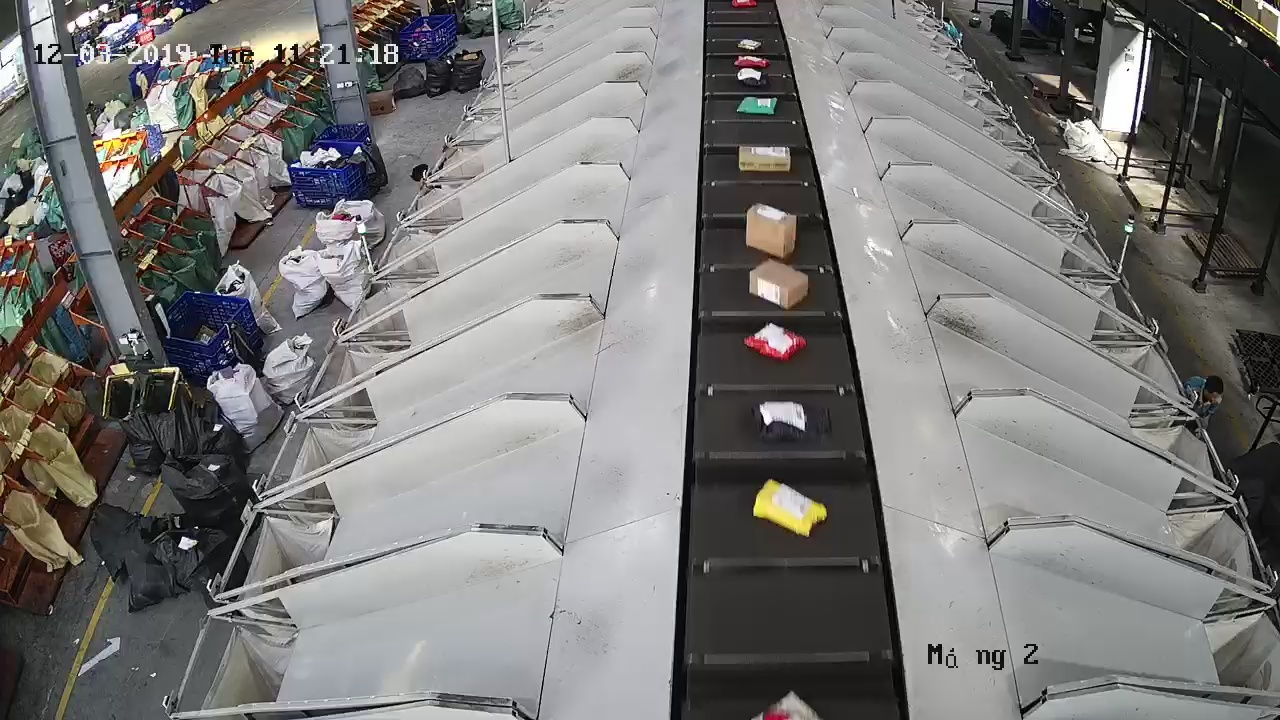parcel: (751, 477, 828, 539), (747, 259, 811, 311), (744, 200, 798, 258), (743, 321, 808, 363), (749, 400, 809, 444), (737, 143, 792, 174), (735, 96, 779, 116)
